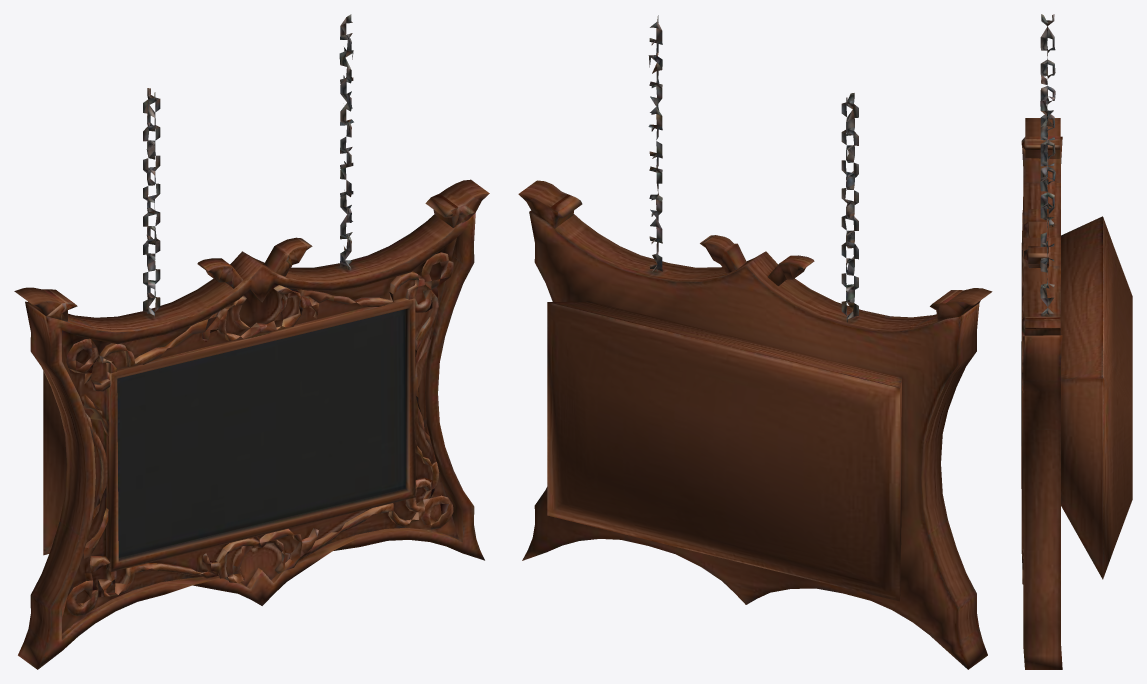
Rendered from mansion_pantalla.glb.
The picture shows the model from 3 angles, left to right: view 1: azimuth 30°, elevation 25°; view 2: azimuth 150°, elevation 25°; view 3: azimuth 270°, elevation 25°; orthographic projection. The views are drawn at different scales.
Visible parts, largest first — view 1: tripo_node_69e283e5-b1cb-484c-be1b-264a9ee211b5; view 2: tripo_node_69e283e5-b1cb-484c-be1b-264a9ee211b5; view 3: tripo_node_69e283e5-b1cb-484c-be1b-264a9ee211b5.
Boxes of the visible parts, box(x1,y1,x2,y2) form: tripo_node_69e283e5-b1cb-484c-be1b-264a9ee211b5: box(14, 14, 489, 669); tripo_node_69e283e5-b1cb-484c-be1b-264a9ee211b5: box(518, 15, 992, 669); tripo_node_69e283e5-b1cb-484c-be1b-264a9ee211b5: box(1021, 14, 1132, 669).
Bounding box in the file's own units: 0.837 × 0.9993 × 0.188.
Materials: 1 (1 with a texture image).
